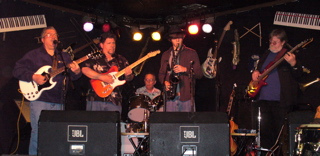person: (14, 26, 83, 156), (82, 34, 136, 115), (159, 24, 203, 114)
